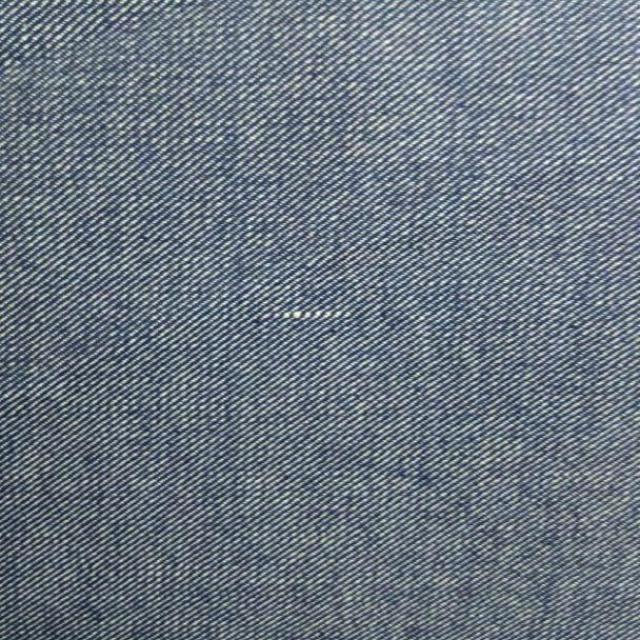Knot: (260, 309, 353, 322)
